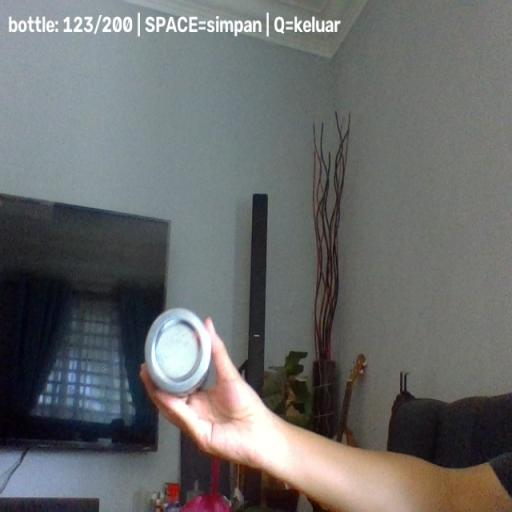Bottle: (144, 307, 213, 397)
